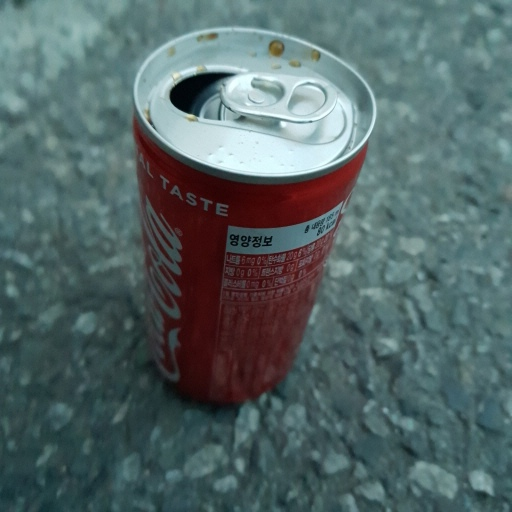Metal_0: (125, 21, 385, 420)
